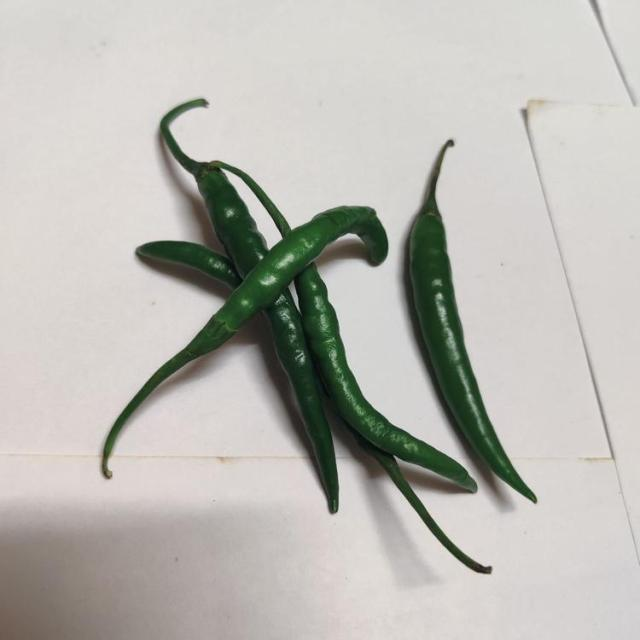Organik: (86, 91, 415, 523), (404, 132, 570, 511)
